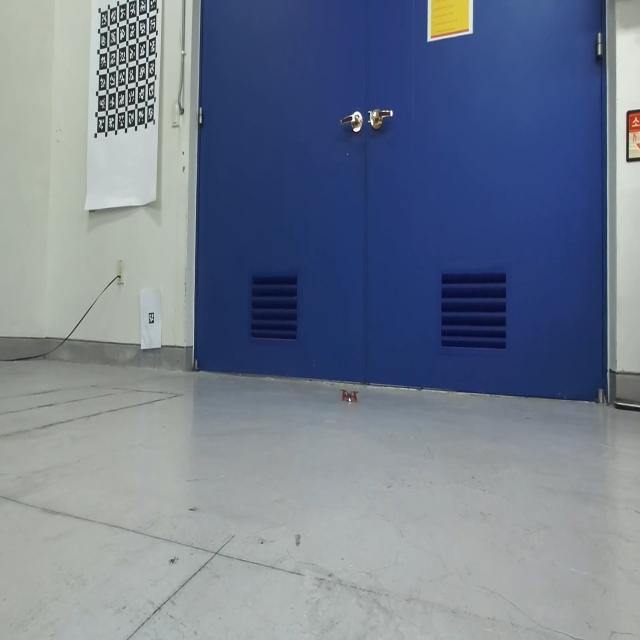crazyflie: (339, 386, 360, 404)
